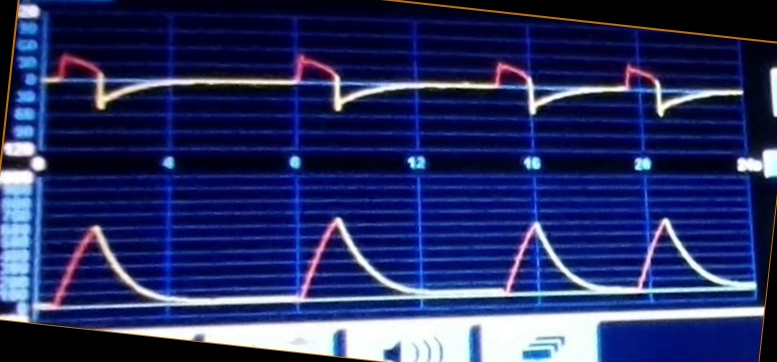Normal Flow: (46, 44, 743, 148)
Normal Volume: (44, 209, 757, 308)
